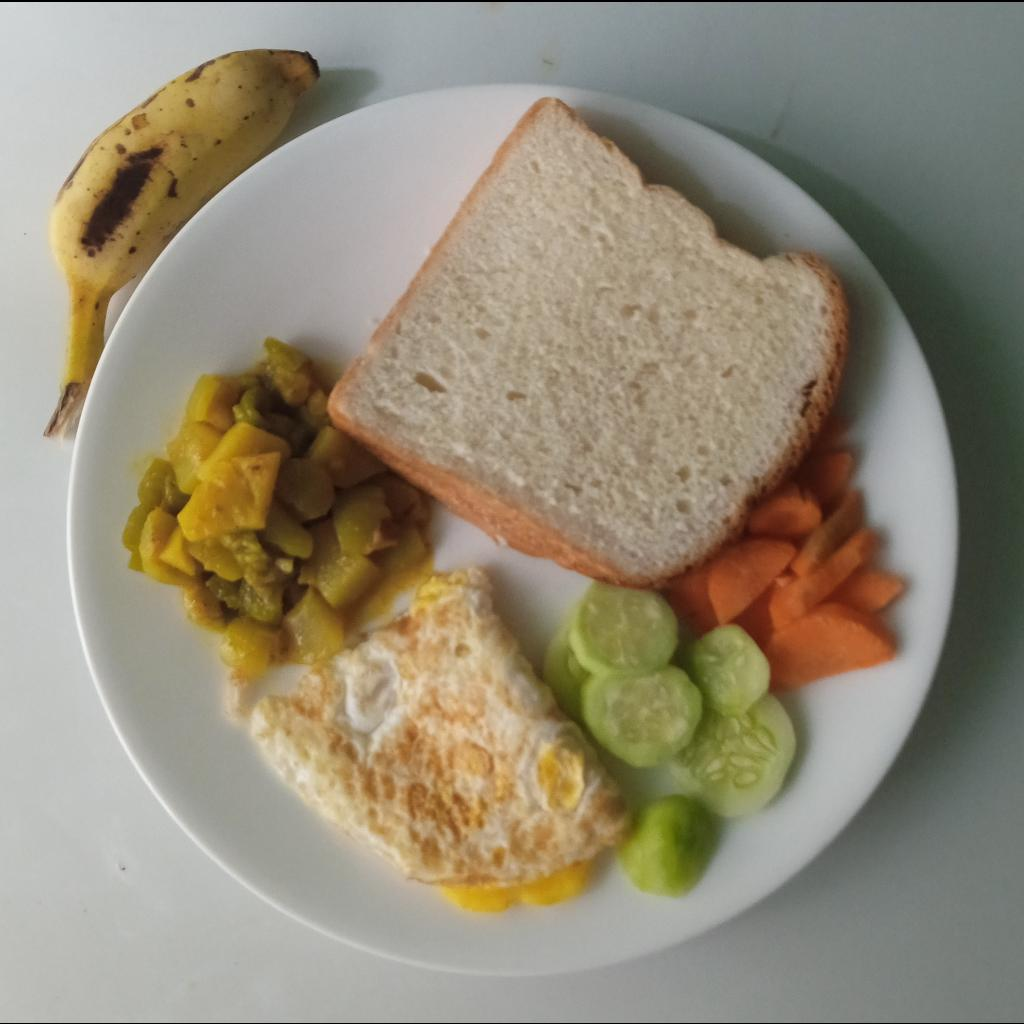banana: (45, 46, 323, 397)
bread: (326, 94, 851, 588)
carrot: (669, 417, 909, 695)
cucumber: (542, 583, 799, 898)
egg-poached: (242, 561, 635, 910)
vegetable: (122, 331, 432, 692)
